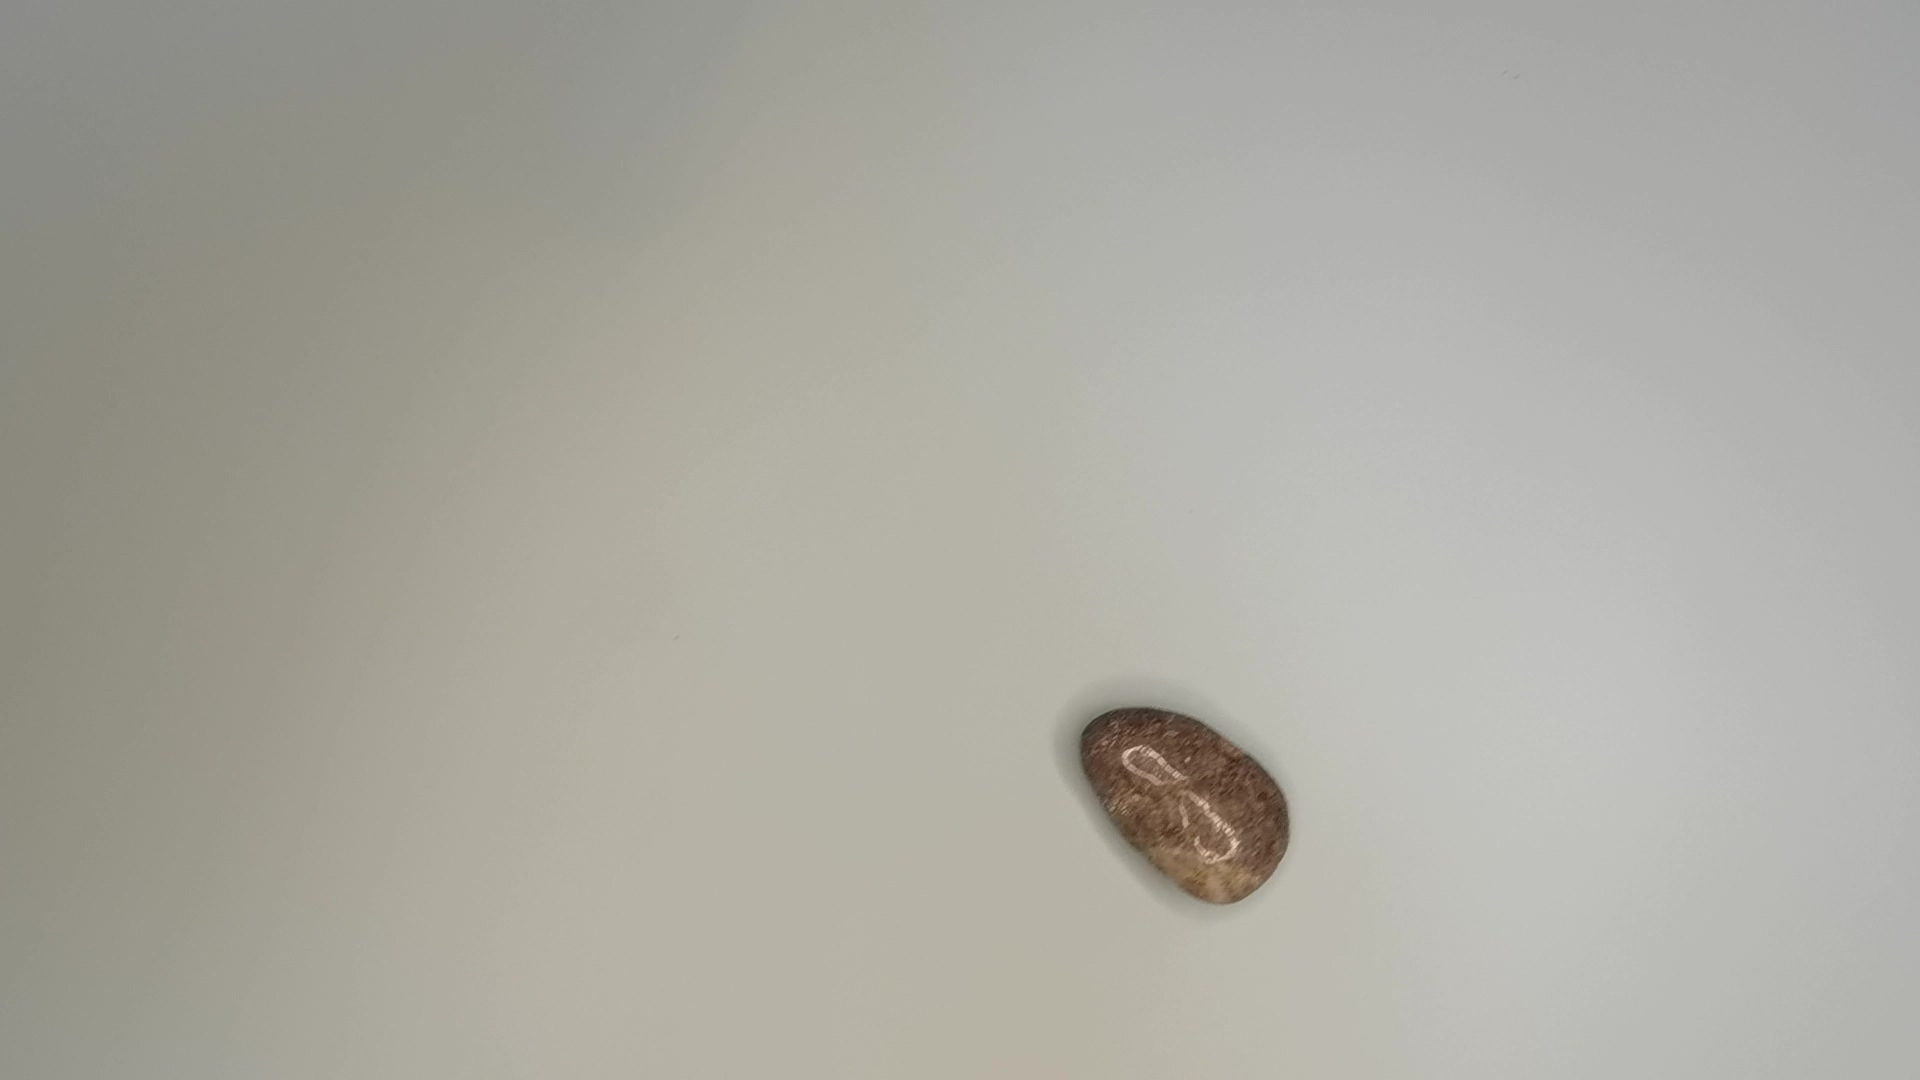ceramic: (1077, 700, 1295, 916)
